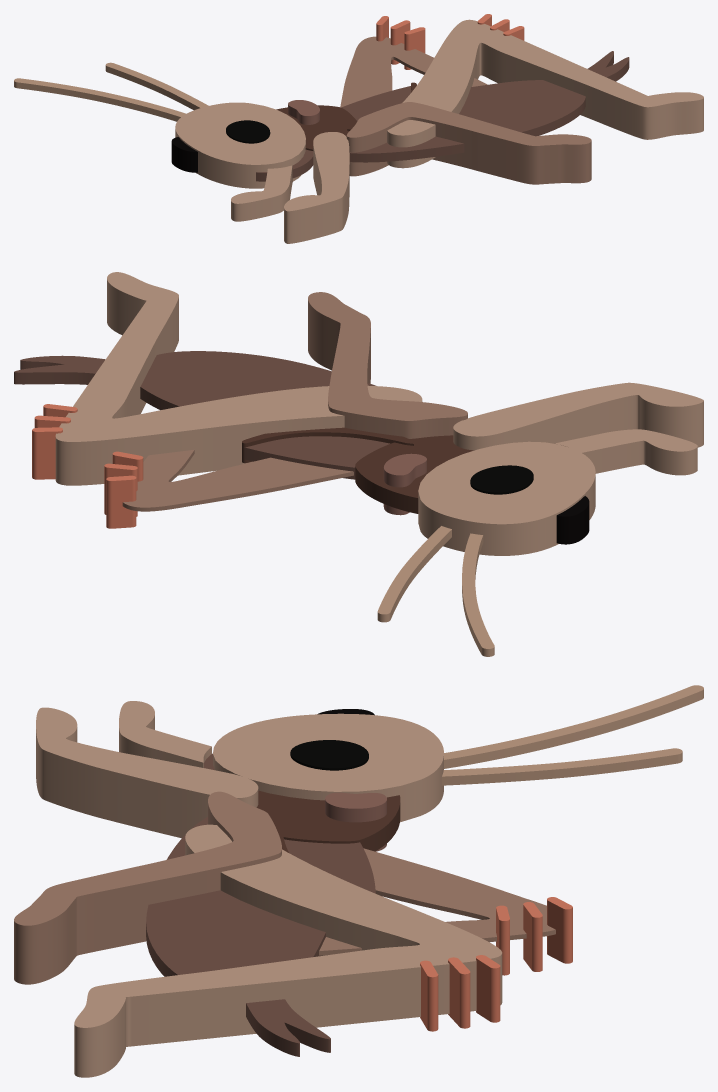
Rendered from emoji_u1f997.glb.
The picture shows the model from 3 angles, top to bottom: view 1: azimuth 30°, elevation 25°; view 2: azimuth 150°, elevation 25°; view 3: azimuth 270°, elevation 25°; orthographic projection. The views are drawn at different scales.
Visible parts, largest first — view 1: emoji_u1f997; view 2: emoji_u1f997; view 3: emoji_u1f997.
Part boxes in pixels (x1,y1,x2,y2): emoji_u1f997: (14,14,703,243); emoji_u1f997: (14,272,703,656); emoji_u1f997: (14,685,703,1077).
Bounding box in the file's own units: 0.0344 × 0.0026 × 0.0276.
